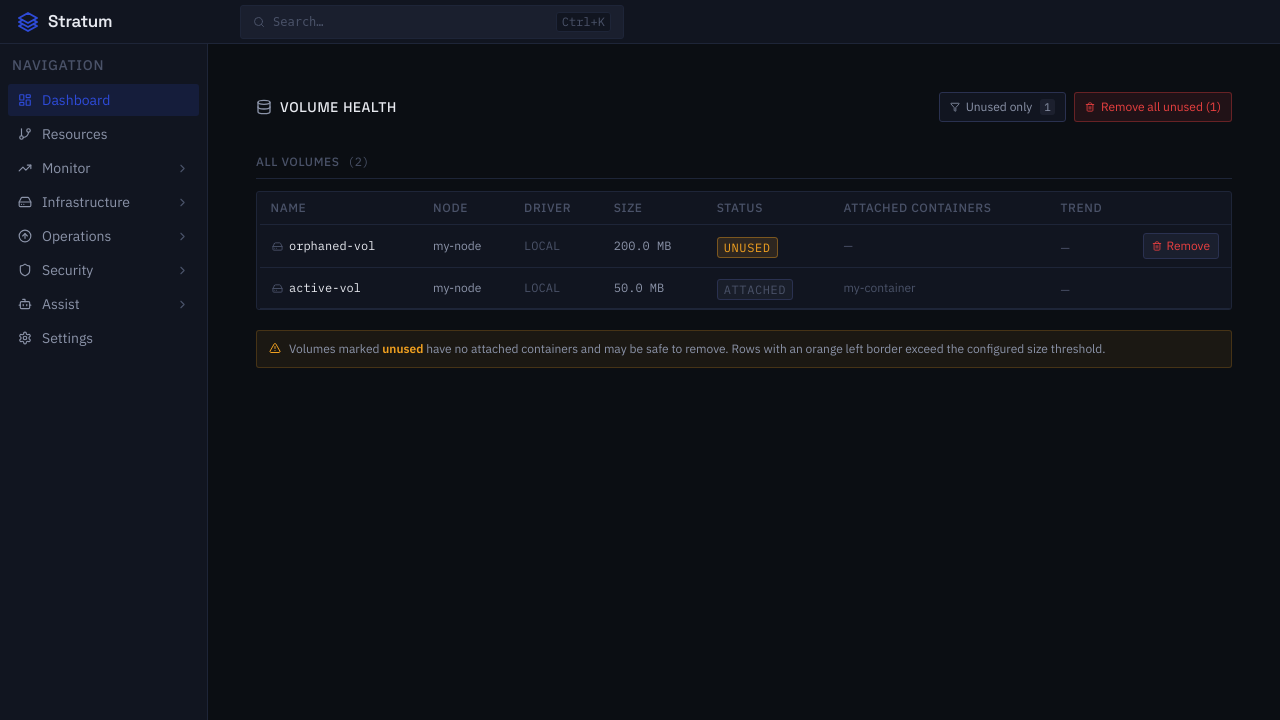
Scenario: Volumes page — single-volume Remove gate › should show the confirmation dialog after clicking the per-row Remove button
The width and height of the screenshot is (1280, 720).
Click the button titled "Remove orphaned-vol".
click(1181, 246)  # box x1=1143 y1=233 x2=1219 y2=259
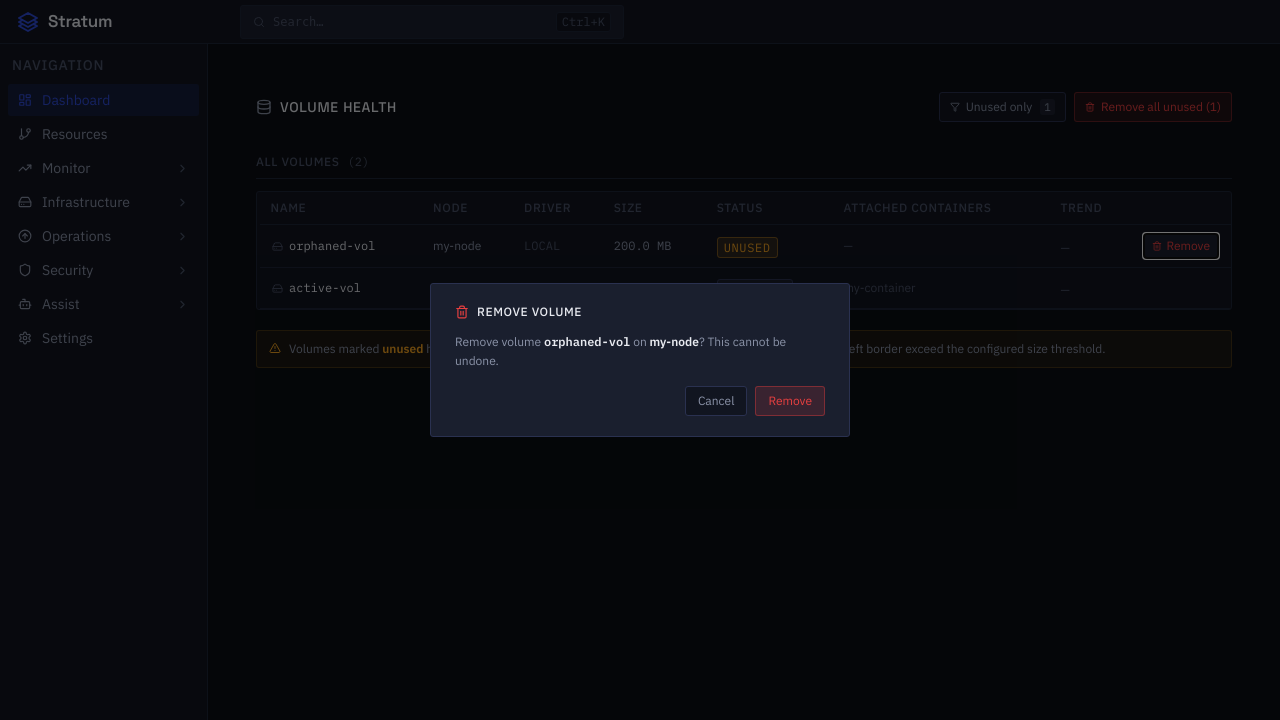
Expected: the text "This cannot be undone" is shown, x1=455 y1=334 x2=786 y2=368
